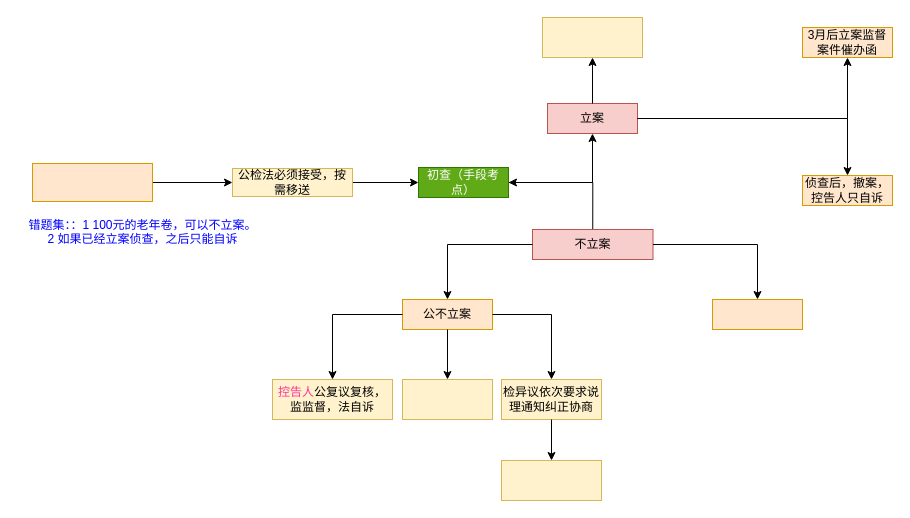
Image size: 910x518. Some labels were removed from this diagram. The shapes that lost their labels are listed below. From the top down, each one's centre as x and y in pixels, then its label:
At (x=592, y=37): "检异议依次说理通知纠正协商".
At (x=92, y=182): "立案职权和申请（举报，控告，保案）".
At (x=757, y=314): "检自侦不立案（建议后老大）".
At (x=447, y=399): "行政只复议".
At (x=551, y=480): "公异议复议复核".
